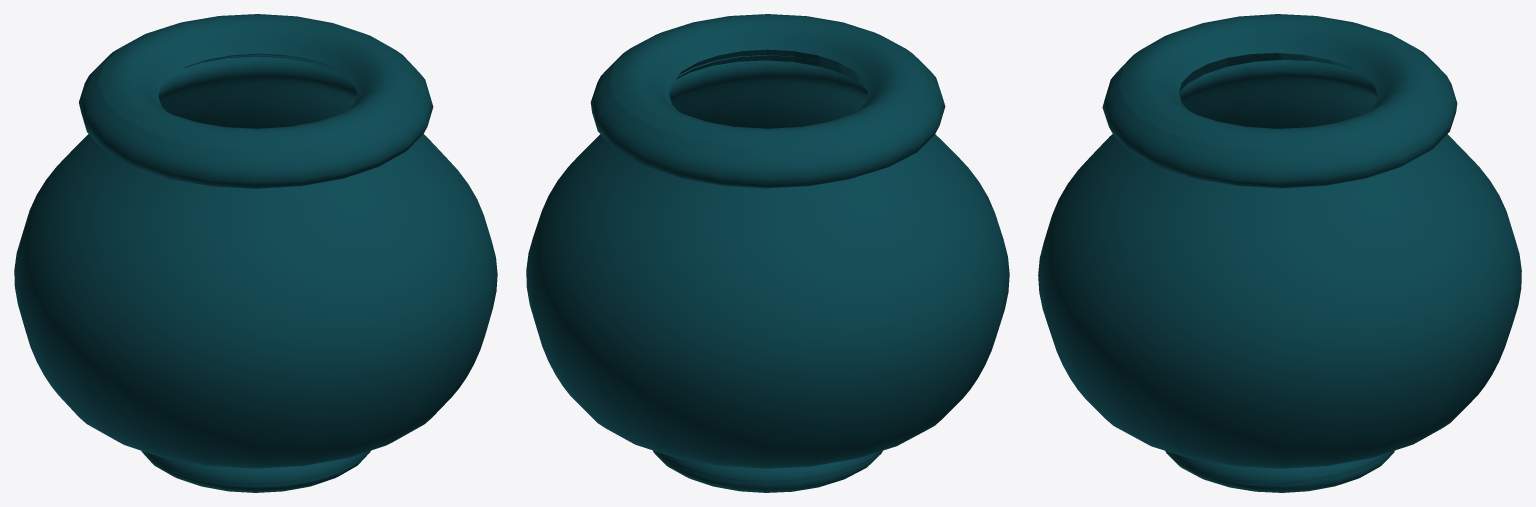
File: uvGoldfishDecor.obj
3 views of the same model, side by side, from view 1: azimuth 30°, elevation 25°; view 2: azimuth 150°, elevation 25°; view 3: azimuth 270°, elevation 25° (orthographic).
Parts seen in each view (by area): view 1: revolvedSurface1; view 2: revolvedSurface1; view 3: revolvedSurface1.
Part boxes in pixels (x1,y1,x2,y2): revolvedSurface1: [14, 14, 497, 492]; revolvedSurface1: [526, 14, 1009, 492]; revolvedSurface1: [1038, 14, 1521, 492].
Bounding box in the file's own units: 14.5 × 12.69 × 14.5.
